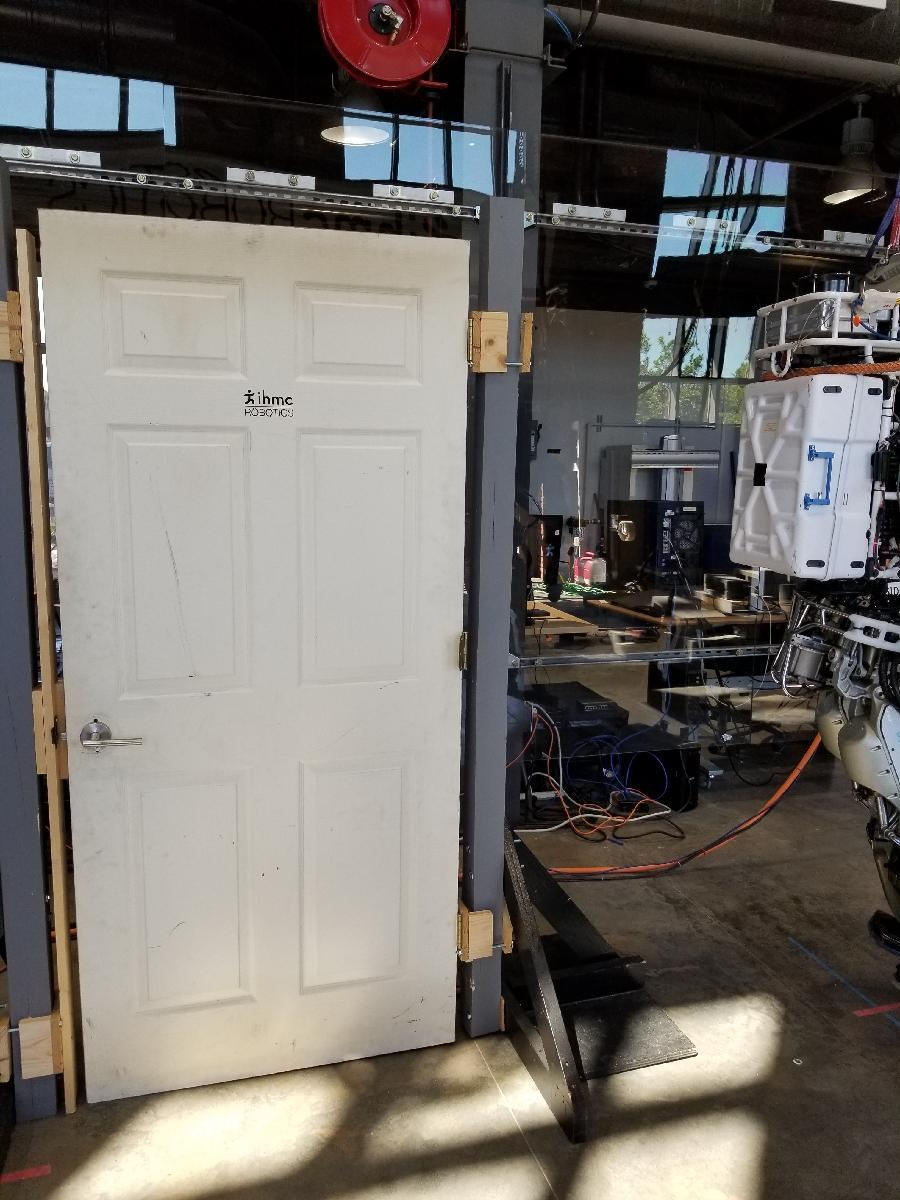door: (45, 218, 471, 1069)
handle: (78, 718, 144, 757)
